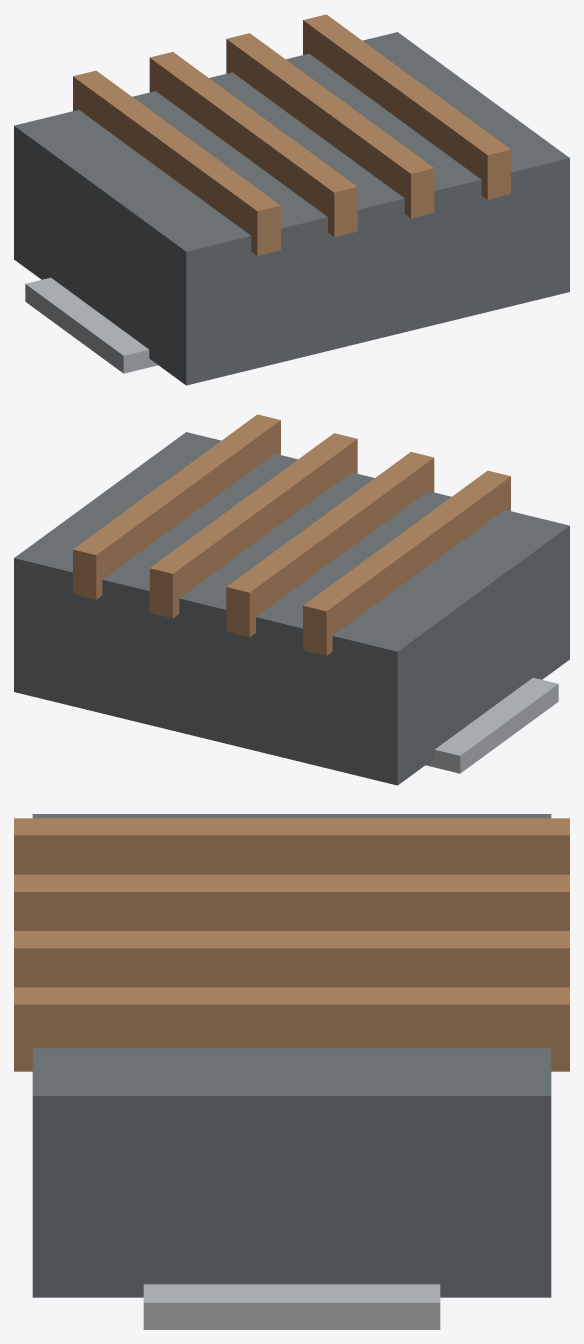
3 renders of one model, top to bottom at view 1: azimuth 30°, elevation 25°; view 2: azimuth 150°, elevation 25°; view 3: azimuth 270°, elevation 25°, orthographic. The views are drawn at different scales.
Parts seen in each view (by area): view 1: part000__PSMAT__Ferrite_Charcoal, part003__PSMAT__Thermal_Copper, part002__PSMAT__Thermal_Copper, part004__PSMAT__Thermal_Copper, part001__PSMAT__Thermal_Copper, part005__PSMAT__Tin_Solder; view 2: part000__PSMAT__Ferrite_Charcoal, part003__PSMAT__Thermal_Copper, part002__PSMAT__Thermal_Copper, part004__PSMAT__Thermal_Copper, part001__PSMAT__Thermal_Copper, part005__PSMAT__Tin_Solder; view 3: part000__PSMAT__Ferrite_Charcoal, part004__PSMAT__Thermal_Copper, part001__PSMAT__Thermal_Copper, part002__PSMAT__Thermal_Copper, part003__PSMAT__Thermal_Copper, part006__PSMAT__Tin_Solder.
Part boxes in pixels (box(x1,y1,x2,y2)): part000__PSMAT__Ferrite_Charcoal: box(14, 32, 569, 385); part003__PSMAT__Thermal_Copper: box(226, 33, 434, 218); part002__PSMAT__Thermal_Copper: box(149, 52, 357, 237); part004__PSMAT__Thermal_Copper: box(303, 14, 510, 199); part001__PSMAT__Thermal_Copper: box(73, 70, 280, 255); part005__PSMAT__Tin_Solder: box(25, 277, 157, 373); part000__PSMAT__Ferrite_Charcoal: box(14, 432, 569, 785); part003__PSMAT__Thermal_Copper: box(149, 433, 357, 618); part002__PSMAT__Thermal_Copper: box(226, 452, 434, 637); part004__PSMAT__Thermal_Copper: box(73, 414, 280, 599); part001__PSMAT__Thermal_Copper: box(303, 470, 510, 655); part005__PSMAT__Tin_Solder: box(426, 677, 558, 773); part000__PSMAT__Ferrite_Charcoal: box(32, 814, 551, 1297); part004__PSMAT__Thermal_Copper: box(14, 987, 569, 1071); part001__PSMAT__Thermal_Copper: box(14, 818, 569, 874); part002__PSMAT__Thermal_Copper: box(14, 874, 569, 930); part003__PSMAT__Thermal_Copper: box(14, 931, 569, 987); part006__PSMAT__Tin_Solder: box(143, 1284, 440, 1329).
Bounding box in the file's own units: 0.0102 × 0.00385 × 0.0075.
